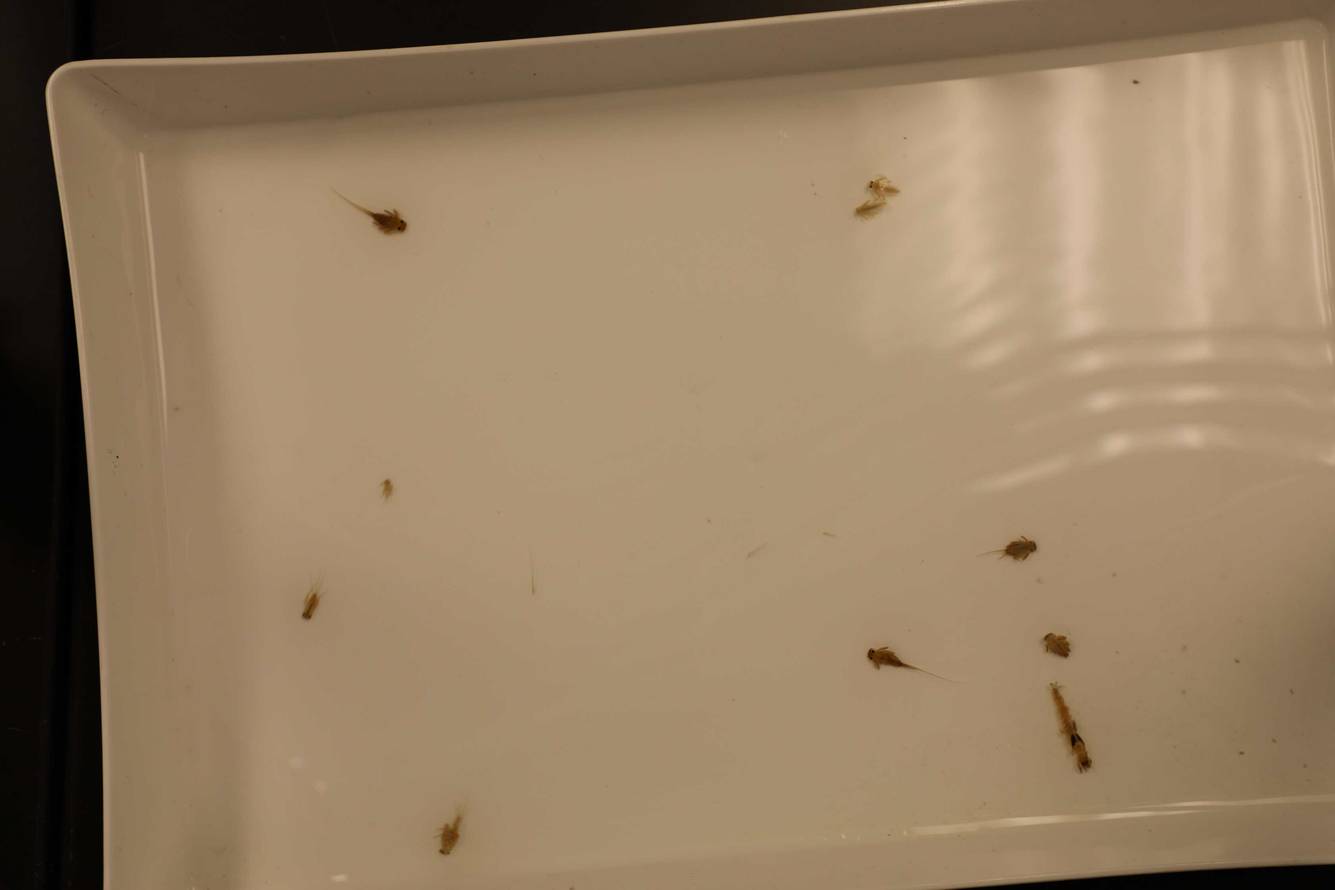Mayfly: (864, 644, 973, 695), (322, 185, 414, 239), (1050, 684, 1095, 779), (971, 532, 1047, 570), (434, 809, 464, 860), (1040, 624, 1073, 665), (301, 573, 324, 627), (862, 177, 908, 200), (852, 198, 893, 221), (381, 472, 393, 500)
